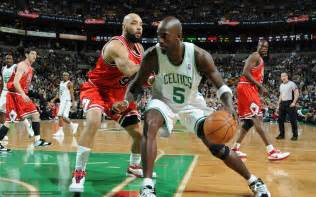basketball: (202, 110, 236, 145)
